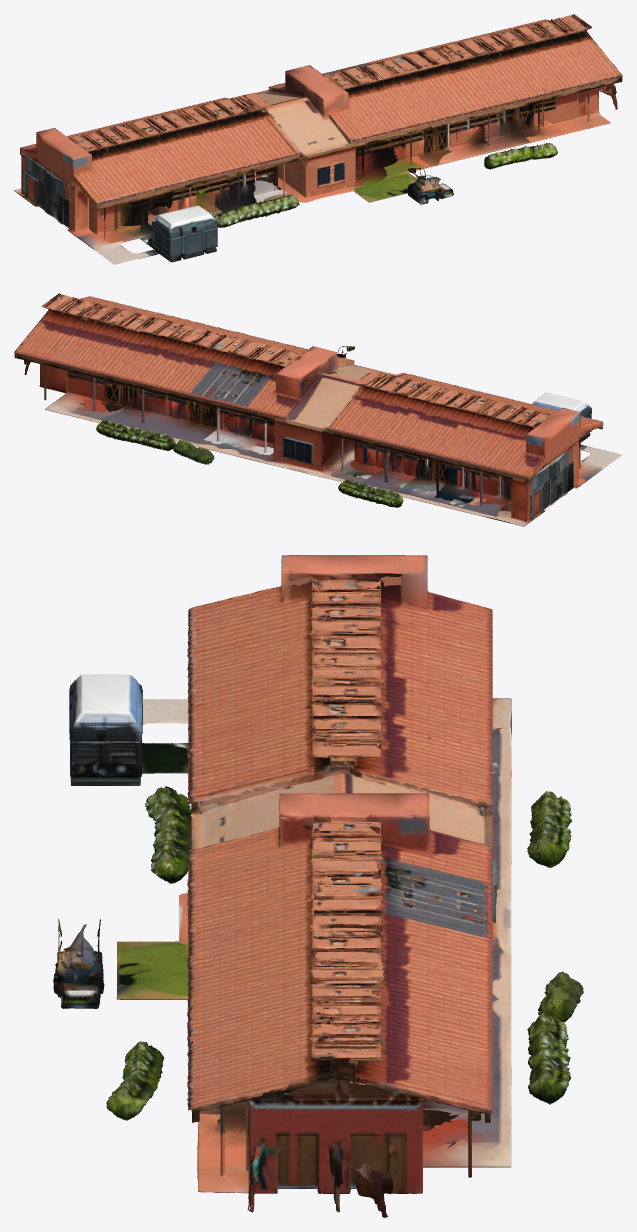
File: stables-mesh.glb
3 views of the same model, one above another, from view 1: azimuth 30°, elevation 25°; view 2: azimuth 150°, elevation 25°; view 3: azimuth 270°, elevation 25° (orthographic). The views are drawn at different scales.
Visible parts, largest first — view 1: tmpbygtw6exobj; view 2: tmpbygtw6exobj; view 3: tmpbygtw6exobj.
Boxes of the visible parts, x1,y1,x2,y2 form: tmpbygtw6exobj: [14, 14, 622, 264]; tmpbygtw6exobj: [14, 293, 622, 526]; tmpbygtw6exobj: [53, 555, 583, 1217].
Bounding box in the file's own units: 1 × 0.135 × 0.4322.
1 material, 1 textured.
